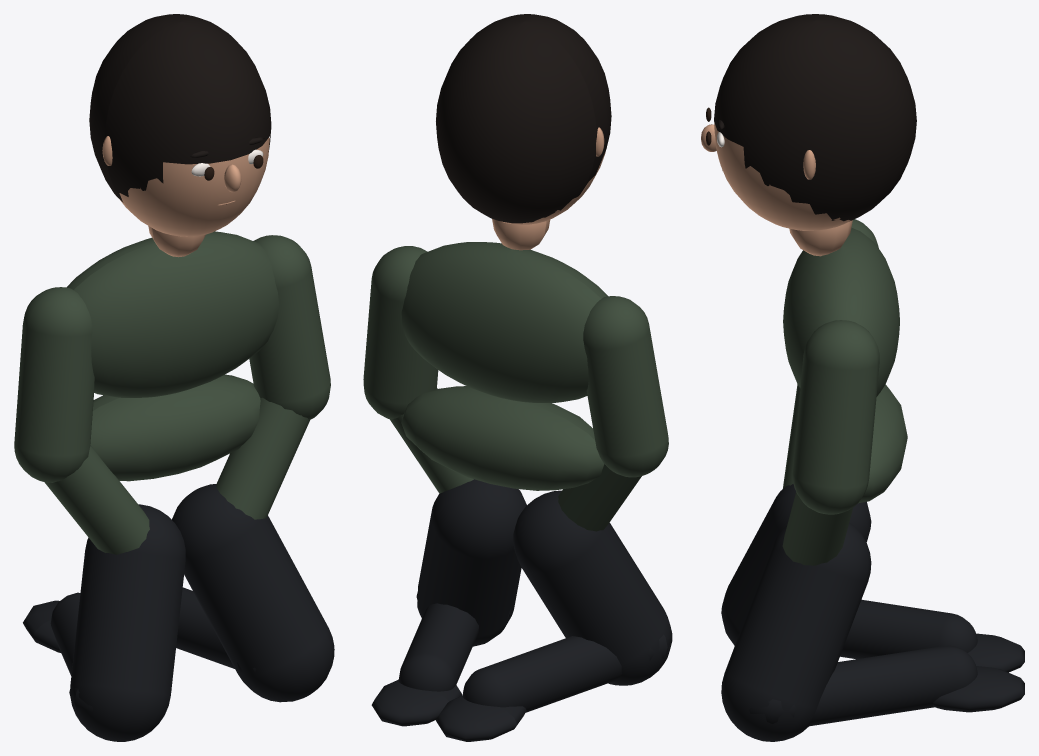
Rendered from seiza.glb.
3 renders of one model, left to right at view 1: azimuth 30°, elevation 25°; view 2: azimuth 150°, elevation 25°; view 3: azimuth 270°, elevation 25°, orthographic. The views are drawn at different scales.
Visible parts, largest first — view 1: cloth (×6), pants (×5), hair, skin (×2); view 2: cloth (×6), pants (×6), hair, skin; view 3: pants (×6), cloth (×5), hair, skin (×2).
Part boxes in pixels (left/top/right/bottom): cloth (×6): left=14, top=231, right=330, bottom=554; pants (×5): left=23, top=484, right=334, bottom=741; hair: left=89, top=14, right=271, bottom=202; skin (×2): left=119, top=137, right=269, bottom=257; cloth (×6): left=363, top=242, right=668, bottom=531; pants (×6): left=371, top=479, right=672, bottom=741; hair: left=436, top=14, right=611, bottom=223; skin: left=492, top=219, right=550, bottom=250; pants (×6): left=721, top=484, right=1024, bottom=741; cloth (×5): left=782, top=227, right=907, bottom=565; hair: left=714, top=14, right=916, bottom=221; skin (×2): left=714, top=123, right=852, bottom=256.
Size of the model in its own units: 0.3318 by 0.7018 by 0.3044.
